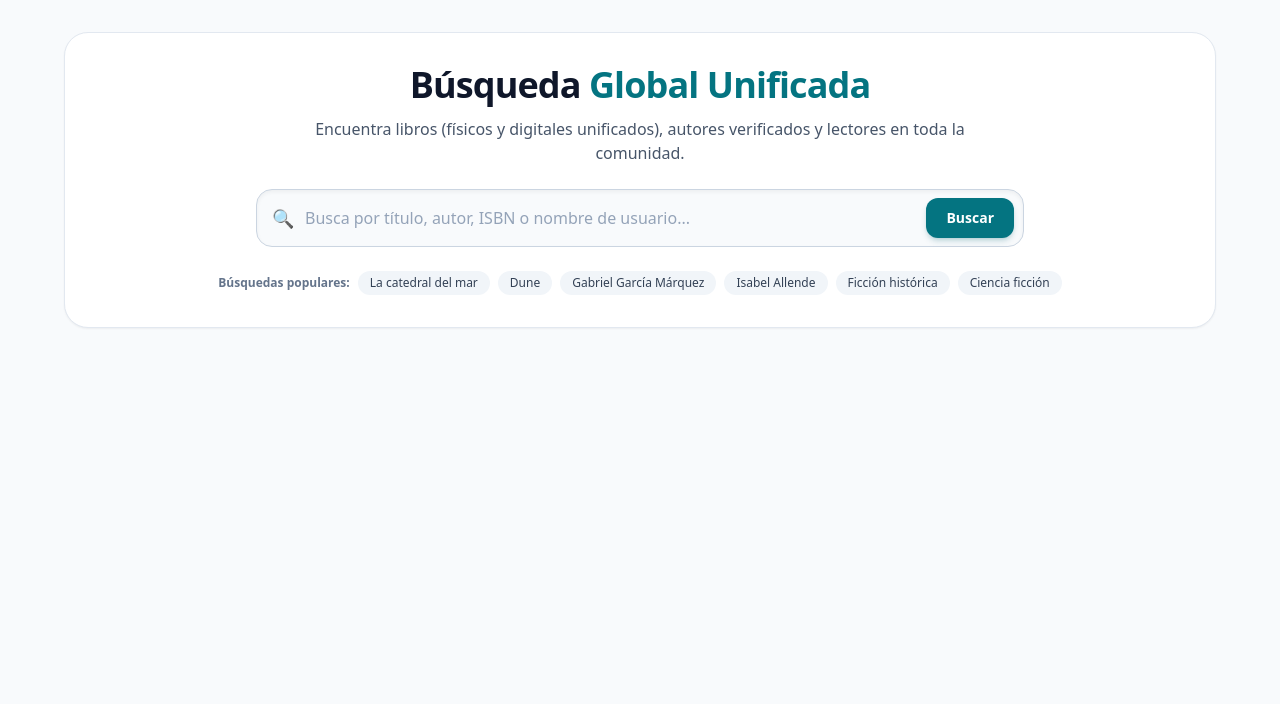
SearchPage Component › allows user to type and submit a search query
Type "quijote" into the field named "Término de búsqueda global" at (640, 218), box [256,189,1024,247]
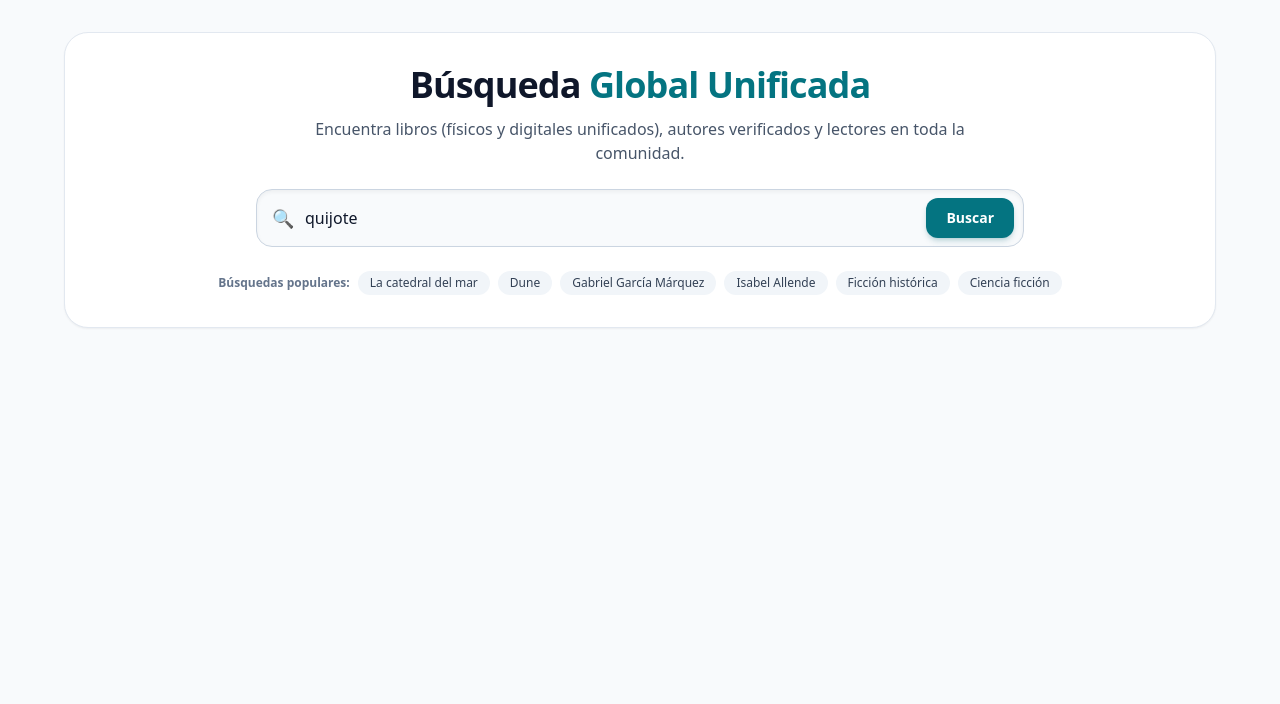
Click the button "Buscar" at (970, 218), box [926,198,1014,238]
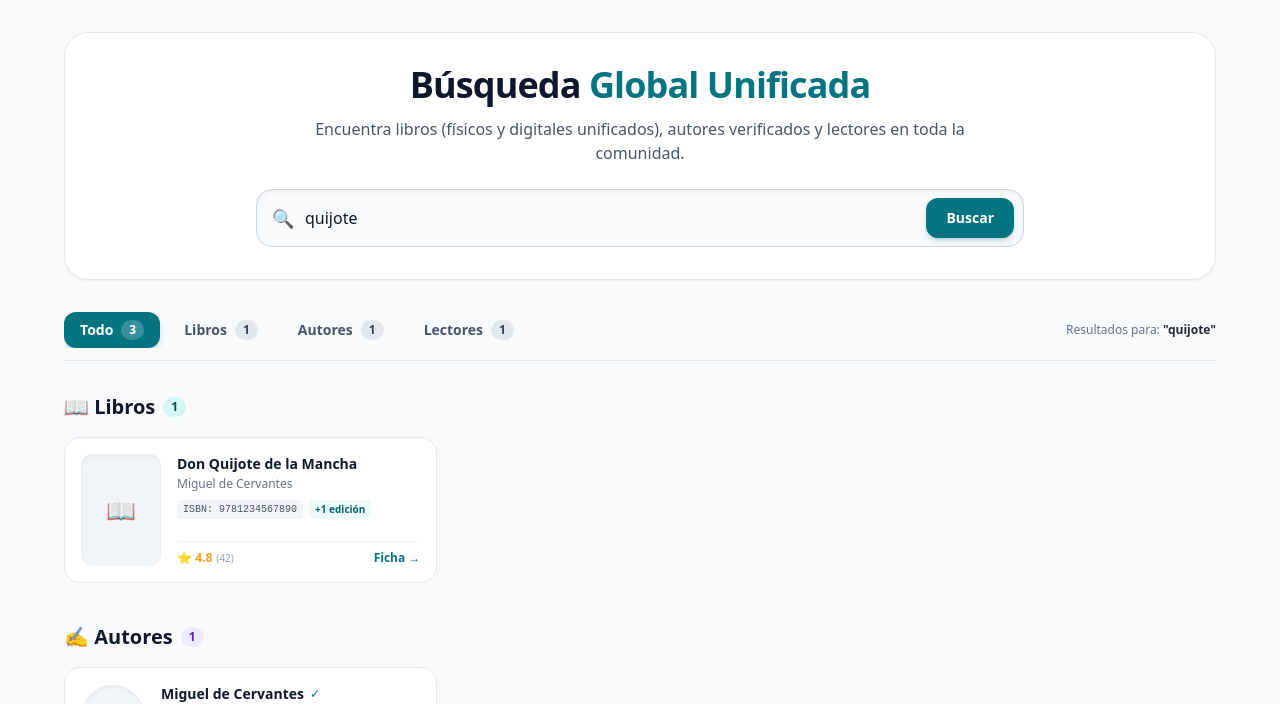
Expected: the link "Don Quijote de la Mancha" is shown, [177,454,357,473]
